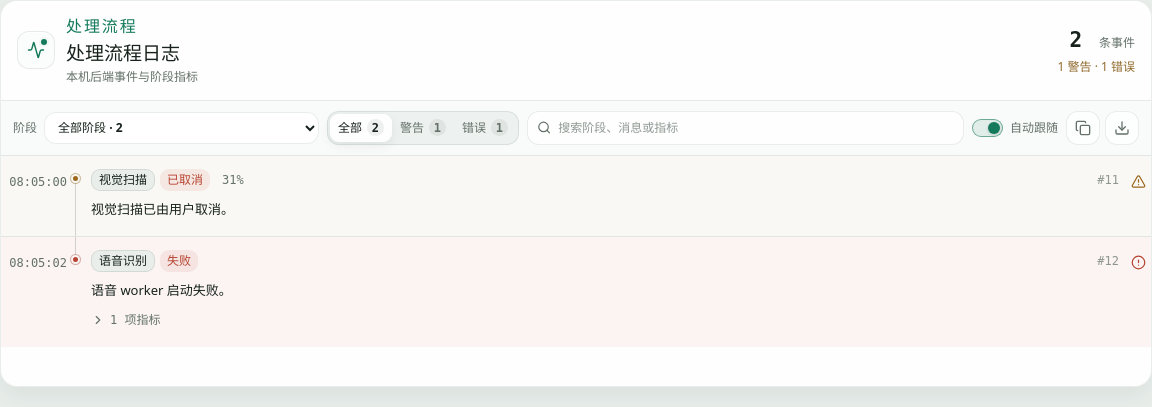
Test: ProcessingFlowPanel › normalizes existing telemetry states when no enhanced events are supplied
Step 1. Click the button "警告 1" → (423, 128), box [392,114,454,142]
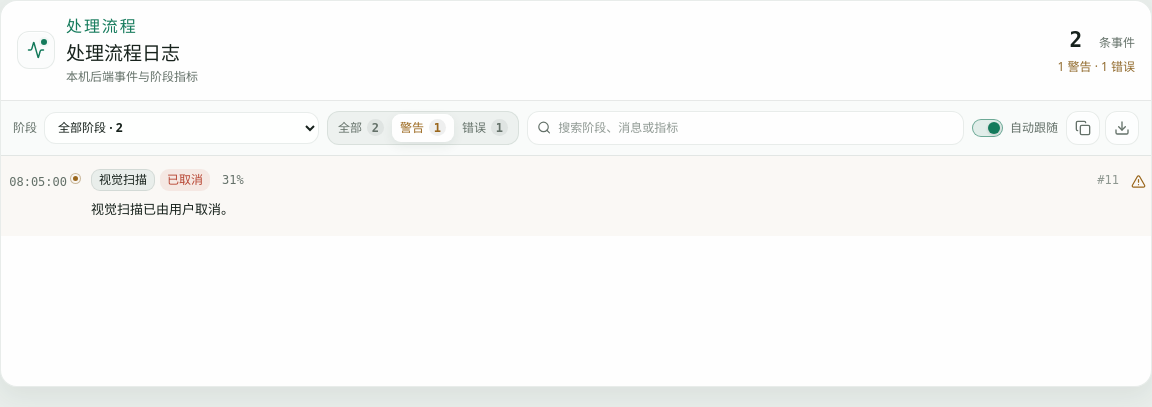
Expected: the text "视觉扫描已由用户取消。" is shown, [91,200,234,218]
Expected: the text "语音 worker 启动失败。" is gone
Step 2. Click the button "错误 1" → (485, 128), box [454,114,516,142]
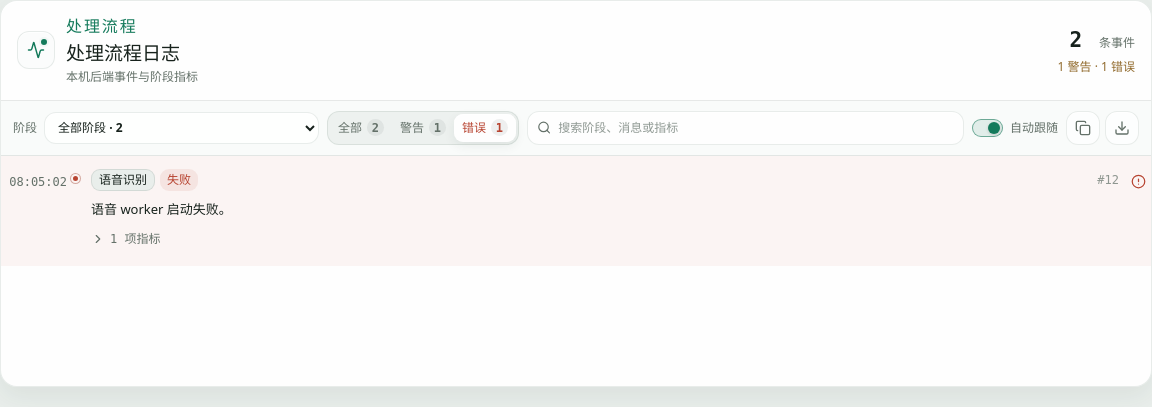
Expected: the text "语音 worker 启动失败。" is shown, [91,200,232,218]
Expected: the text "视觉扫描已由用户取消。" is gone
